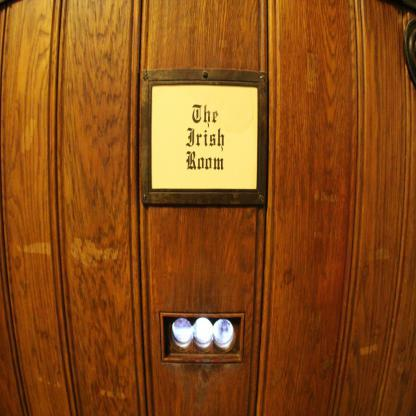Picture-frame: (142, 71, 268, 205)
